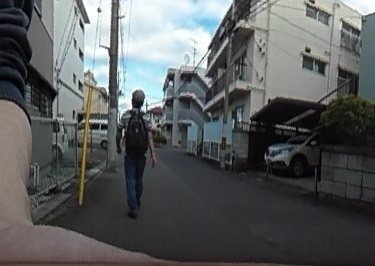person: (118, 87, 155, 214)
